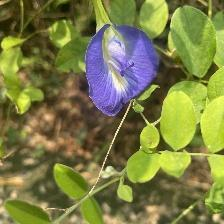shankupushpam: (83, 20, 161, 120)
